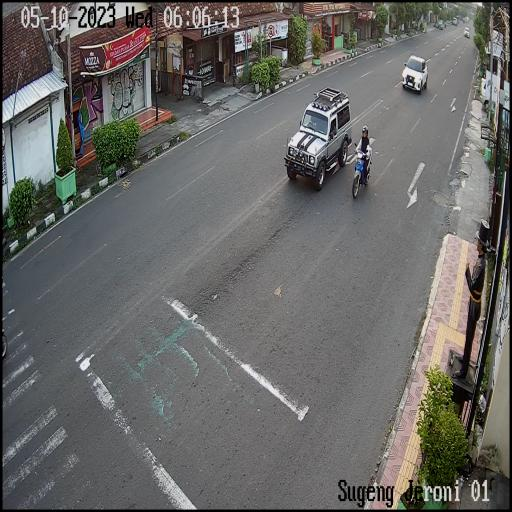mobil: (282, 84, 352, 192), (400, 52, 431, 97)
motor: (350, 140, 374, 200)
